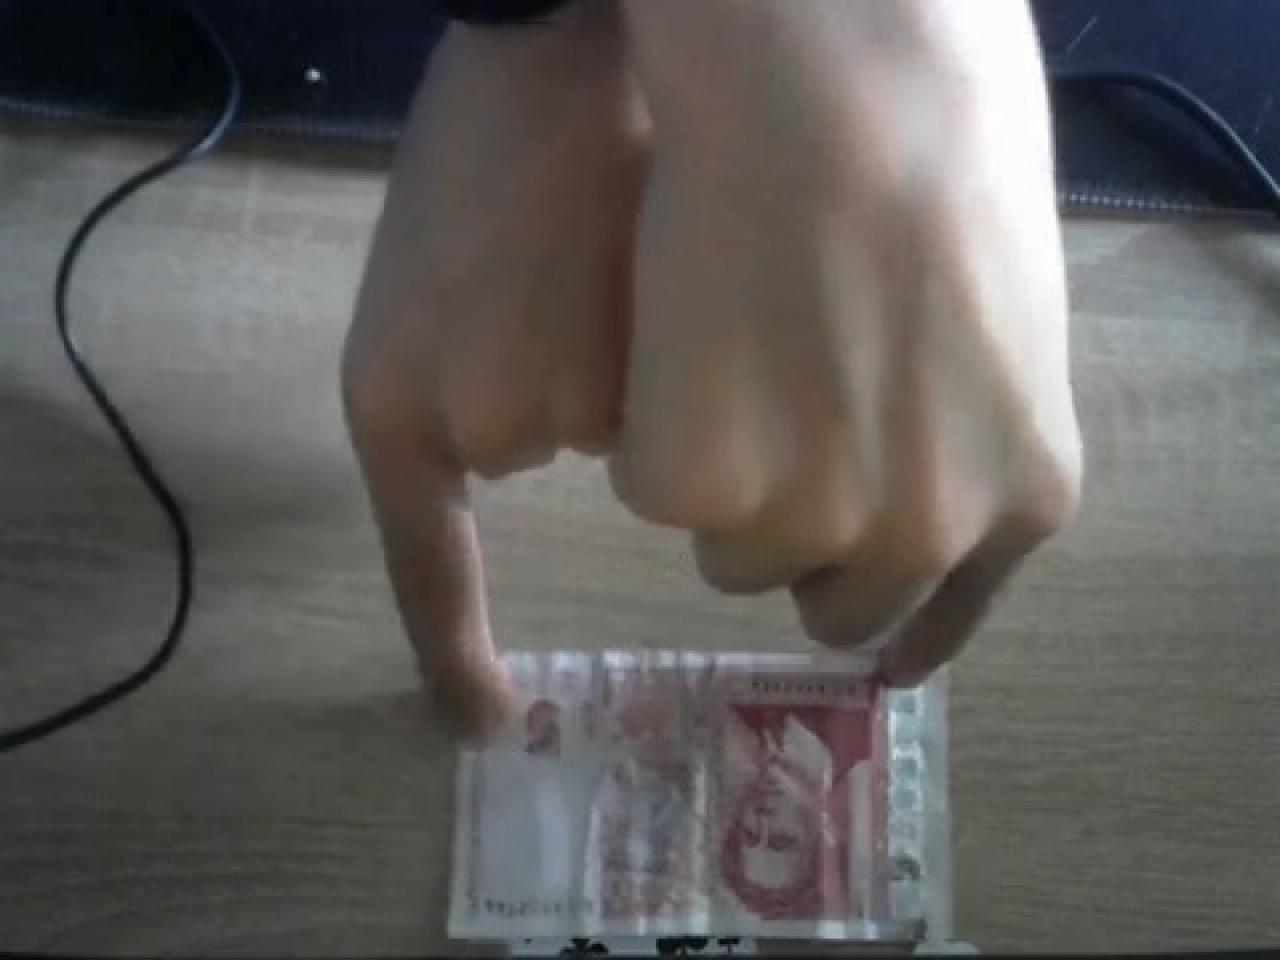5leva: (454, 648, 938, 960)
